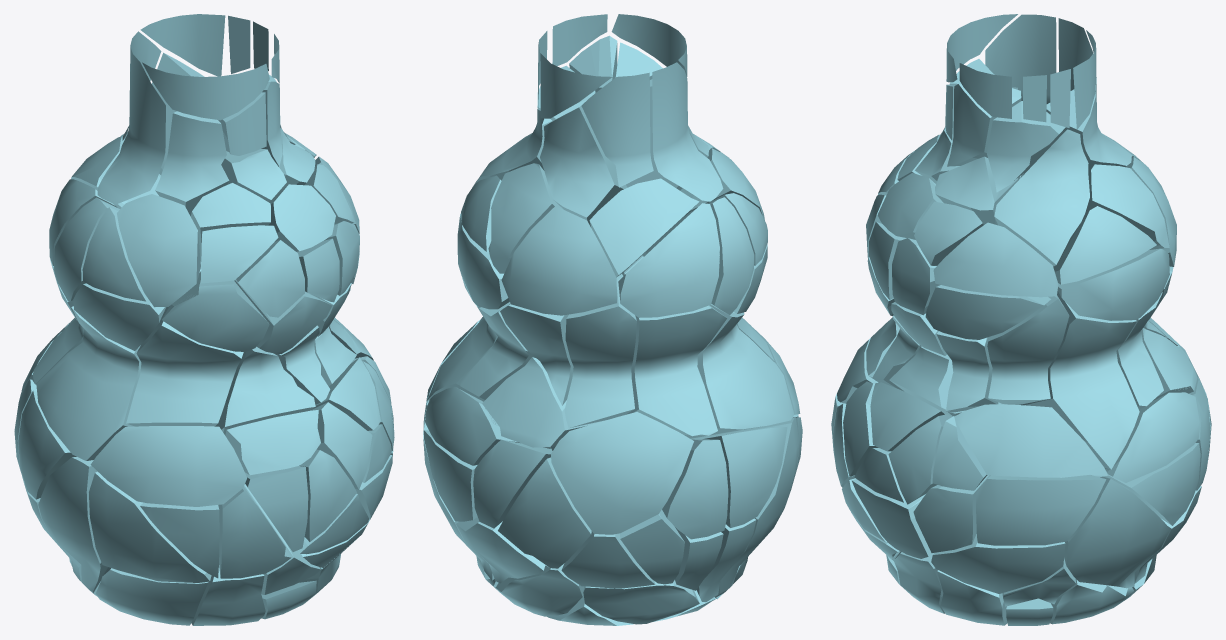
File: broken_bookshelf_vase.fbx
The picture shows the model from 3 angles, left to right: view 1: azimuth 30°, elevation 25°; view 2: azimuth 150°, elevation 25°; view 3: azimuth 270°, elevation 25°; orthographic projection.
Parts seen in each view (by area): view 1: Cube.003_cell.089, Cube.003_cell.007, Cube.003_cell.032, Cube.003_cell.005, Cube.003_cell.067, Cube.003_cell.086, Cube.003_cell.078, Cube.003_cell.048, Cube.003_cell.055, Cube.003_cell.002, Cube.003_cell.041, Cube.003_cell.039 (+43 smaller); view 2: Cube.003_cell.028, Cube.003_cell.017, Cube.003_cell.053, Cube.003_cell.068, Cube.003_cell.070, Cube.003_cell.007, Cube.003_cell.064, Cube.003_cell.024, Cube.003_cell.054, Cube.003_cell.086, Cube.003_cell.044, Cube.003_cell.026 (+33 smaller); view 3: Cube.003_cell.088, Cube.003_cell.076, Cube.003_cell.034, Cube.003_cell.042, Cube.003_cell.056, Cube.003_cell.082, Cube.003_cell.001, Cube.003_cell.009, Cube.003_cell.011, Cube.003_cell.038, Cube.003_cell, Cube.003_cell.059 (+44 smaller).
Boxes of the visible parts, x1,y1,x2,y2 form: Cube.003_cell.089: (90, 426, 246, 506); Cube.003_cell.007: (36, 306, 141, 460); Cube.003_cell.032: (126, 261, 243, 426); Cube.003_cell.005: (117, 194, 200, 307); Cube.003_cell.067: (89, 471, 211, 582); Cube.003_cell.086: (97, 47, 165, 204); Cube.003_cell.078: (162, 271, 269, 351); Cube.003_cell.048: (155, 111, 229, 215); Cube.003_cell.055: (38, 457, 107, 593); Cube.003_cell.002: (215, 346, 315, 435); Cube.003_cell.041: (218, 487, 291, 578); Cube.003_cell.039: (225, 410, 320, 475); Cube.003_cell.028: (551, 412, 693, 534); Cube.003_cell.017: (501, 206, 616, 315); Cube.003_cell.053: (622, 255, 726, 436); Cube.003_cell.068: (564, 274, 636, 427); Cube.003_cell.070: (618, 203, 719, 317); Cube.003_cell.007: (625, 304, 794, 438); Cube.003_cell.064: (540, 107, 627, 226); Cube.003_cell.024: (589, 178, 699, 277); Cube.003_cell.054: (498, 457, 591, 568); Cube.003_cell.086: (652, 62, 723, 201); Cube.003_cell.044: (581, 72, 653, 187); Cube.003_cell.026: (482, 357, 606, 450); Cube.003_cell.088: (1019, 291, 1139, 469); Cube.003_cell.076: (954, 404, 1108, 477); Cube.003_cell.034: (976, 475, 1106, 545); Cube.003_cell.042: (994, 129, 1089, 266); Cube.003_cell.056: (1064, 476, 1170, 588); Cube.003_cell.082: (933, 222, 1058, 297); Cube.003_cell.001: (987, 295, 1069, 404); Cube.003_cell.009: (1057, 248, 1169, 320); Cube.003_cell.011: (1105, 392, 1199, 482); Cube.003_cell.038: (931, 534, 1065, 593); Cube.003_cell: (1053, 206, 1156, 284); Cube.003_cell.059: (925, 285, 1050, 339).
Size of the model in its own units: 22.46 by 35.91 by 22.51.
